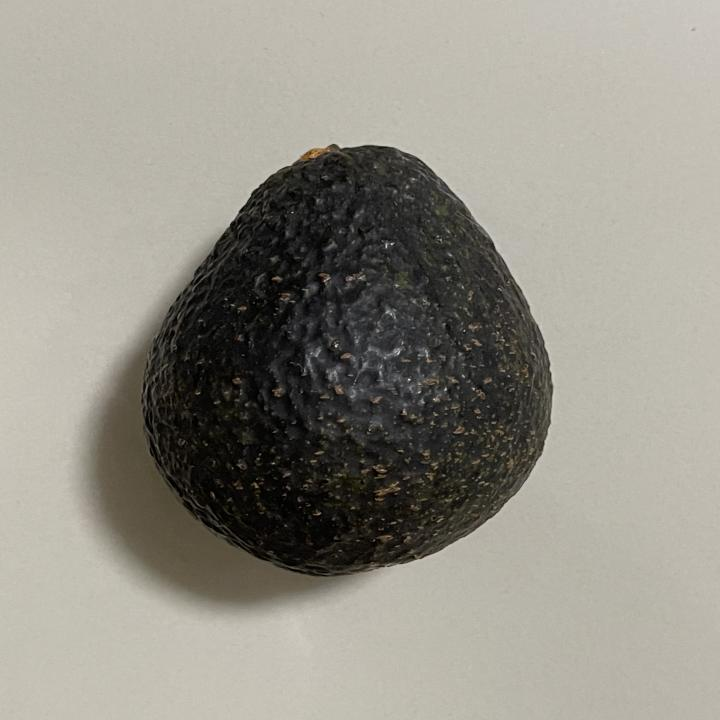Level2: (129, 137, 562, 582)
